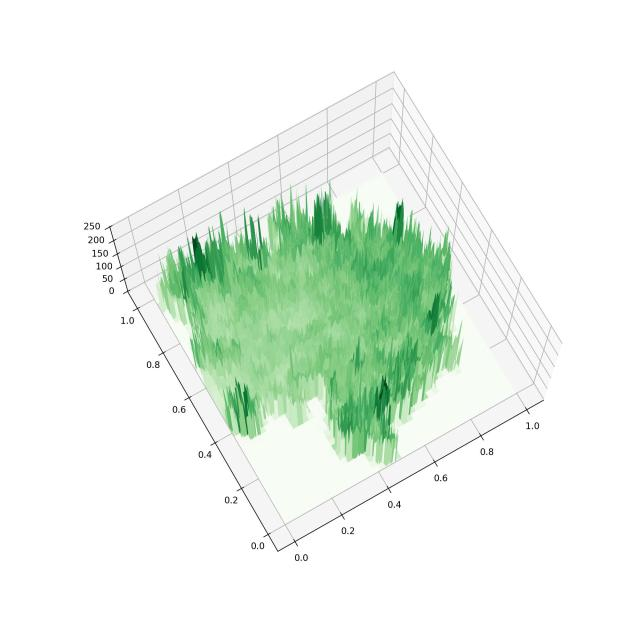spruce: (57, 20, 591, 578)
